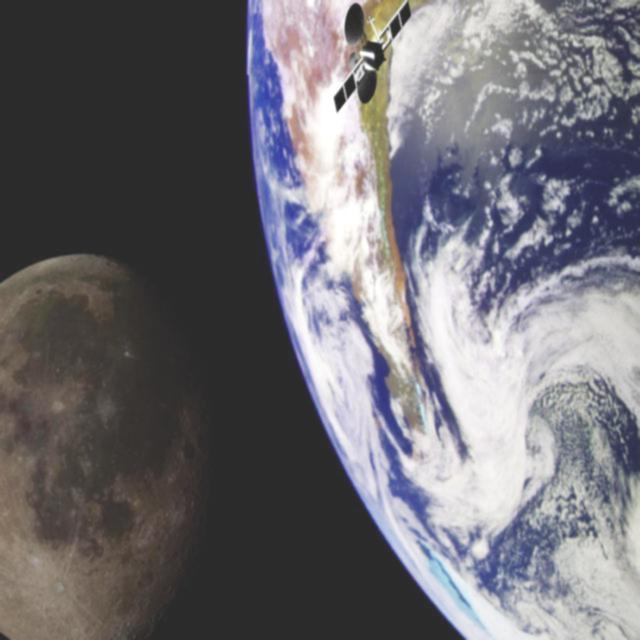satellite: (323, 0, 419, 119)
